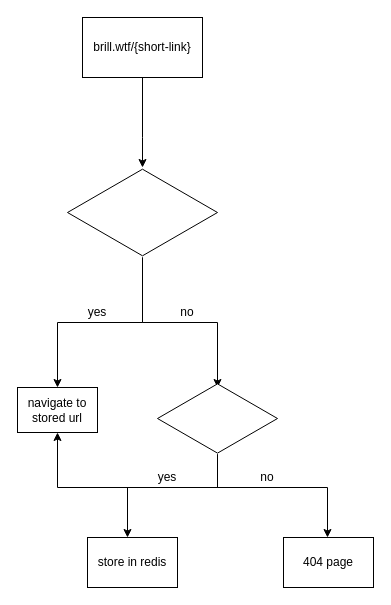
This 391x605 diagram has some shape labels left out. Here are the shapes that lost their labels. From the top down, the box of each, then its label:
(66, 166, 218, 258): is {short-link} in redis
(156, 382, 278, 454): is {short-link} in postgres
